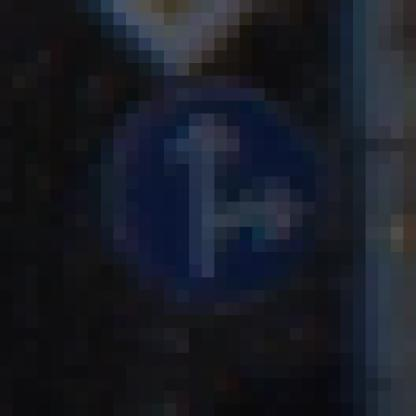Straight or Right: (77, 64, 354, 354)
